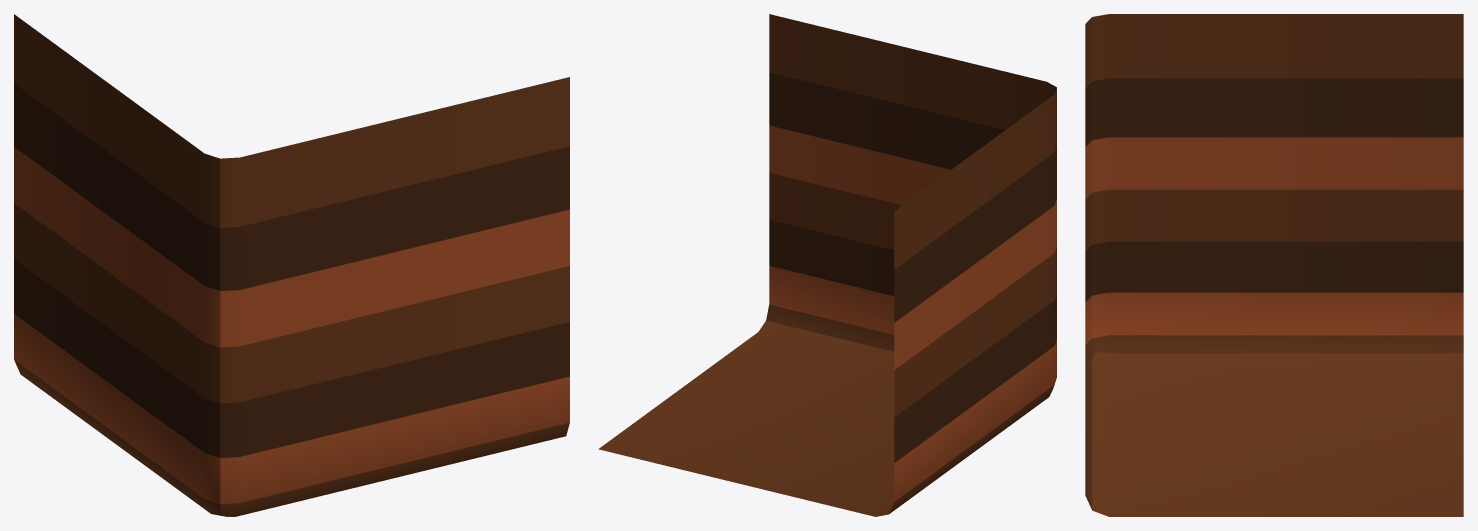
File: Cube_Grass_CornerBottom_Tall.fbx
The picture shows the model from 3 angles, left to right: view 1: azimuth 30°, elevation 25°; view 2: azimuth 150°, elevation 25°; view 3: azimuth 270°, elevation 25°; orthographic projection. The views are drawn at different scales.
Parts seen in each view (by area): view 1: Cube_Grass_CornerBottom_Tall; view 2: Cube_Grass_CornerBottom_Tall; view 3: Cube_Grass_CornerBottom_Tall.
Part boxes in pixels (left/top/right/bottom): Cube_Grass_CornerBottom_Tall: left=14, top=14, right=569, bottom=516; Cube_Grass_CornerBottom_Tall: left=598, top=14, right=1056, bottom=516; Cube_Grass_CornerBottom_Tall: left=1085, top=14, right=1463, bottom=516.
Size of the model in its own units: 200 by 200 by 200.
